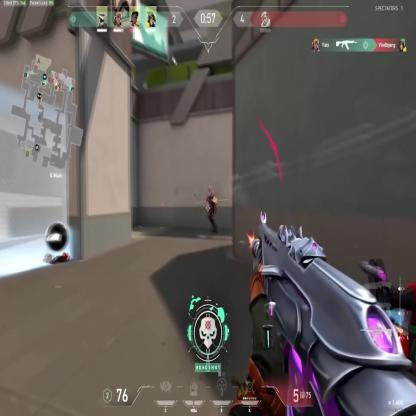enemy: (206, 184, 218, 233)
enemy_head: (208, 186, 211, 192)
